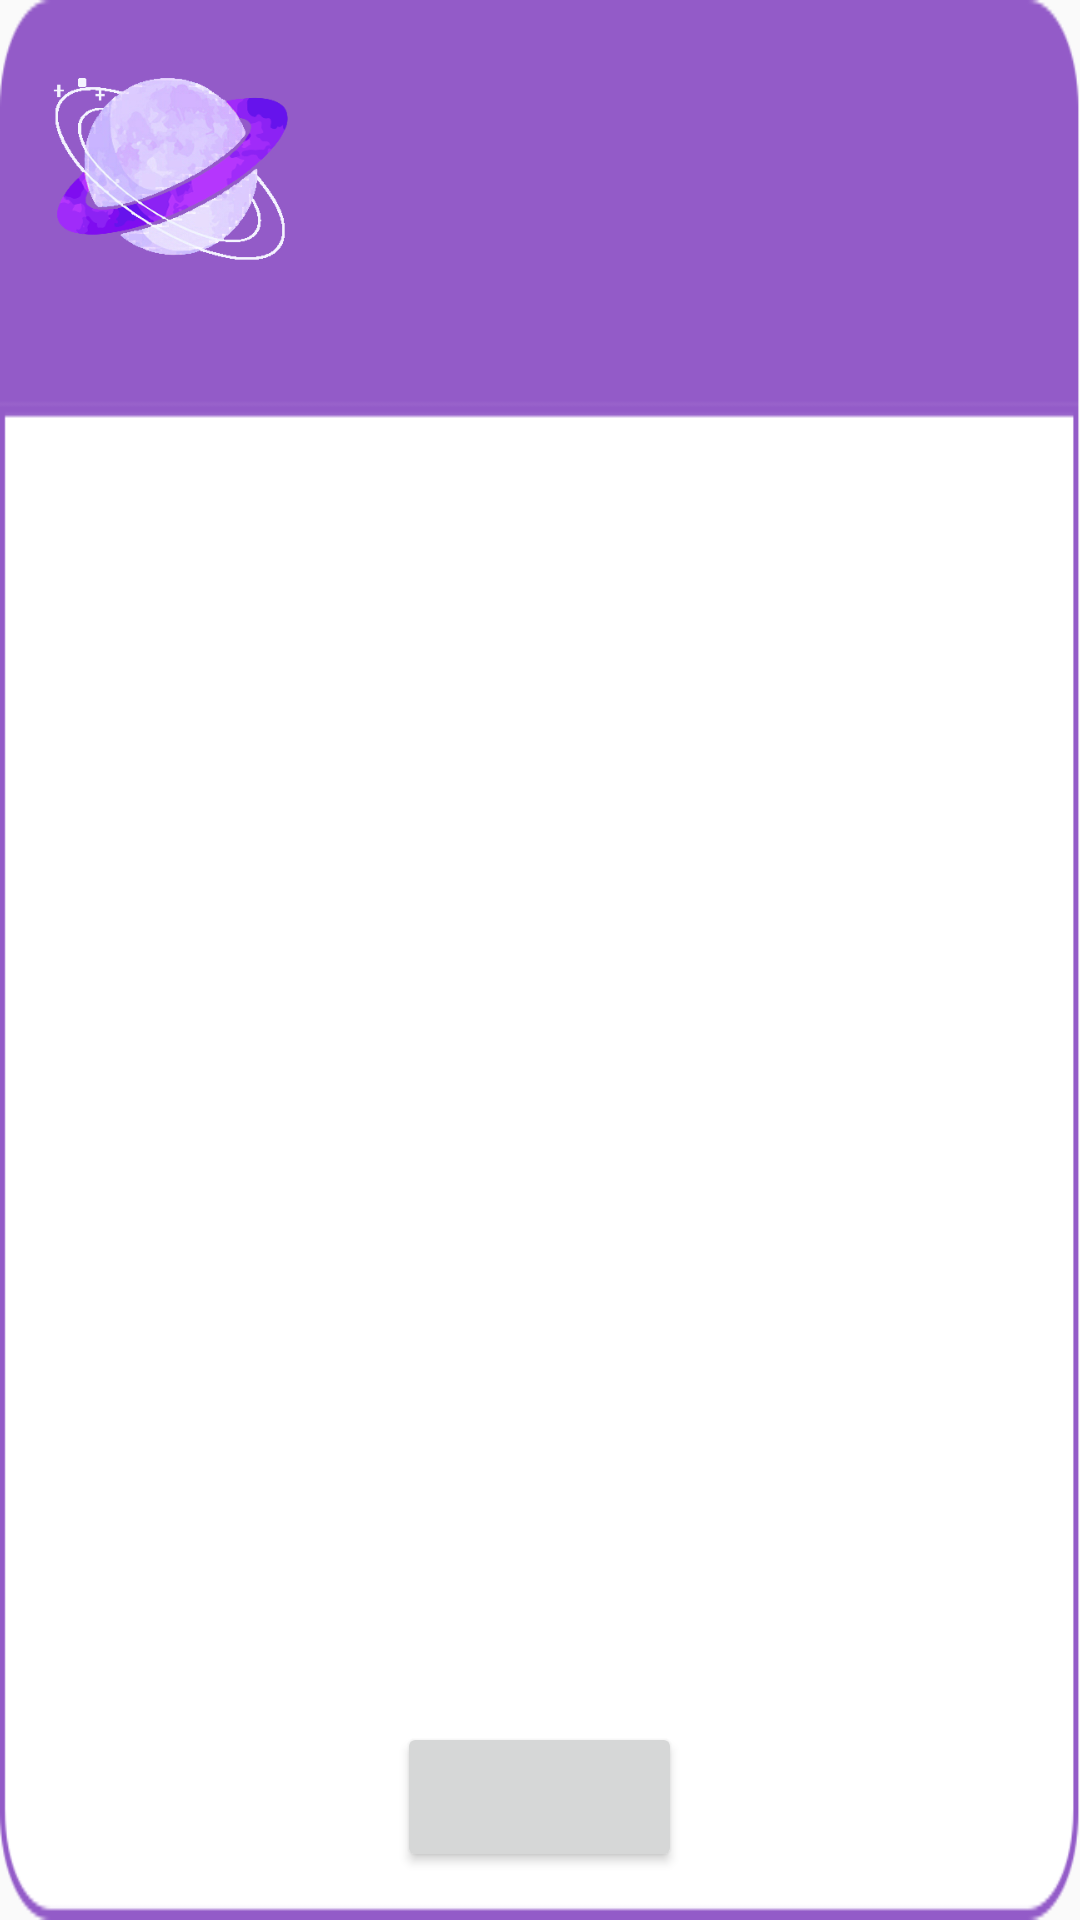

Where icons sit on this 1080 x 1920 app screen, as (x1, y1, x2, y2):
appicon: (54, 78, 288, 260)
